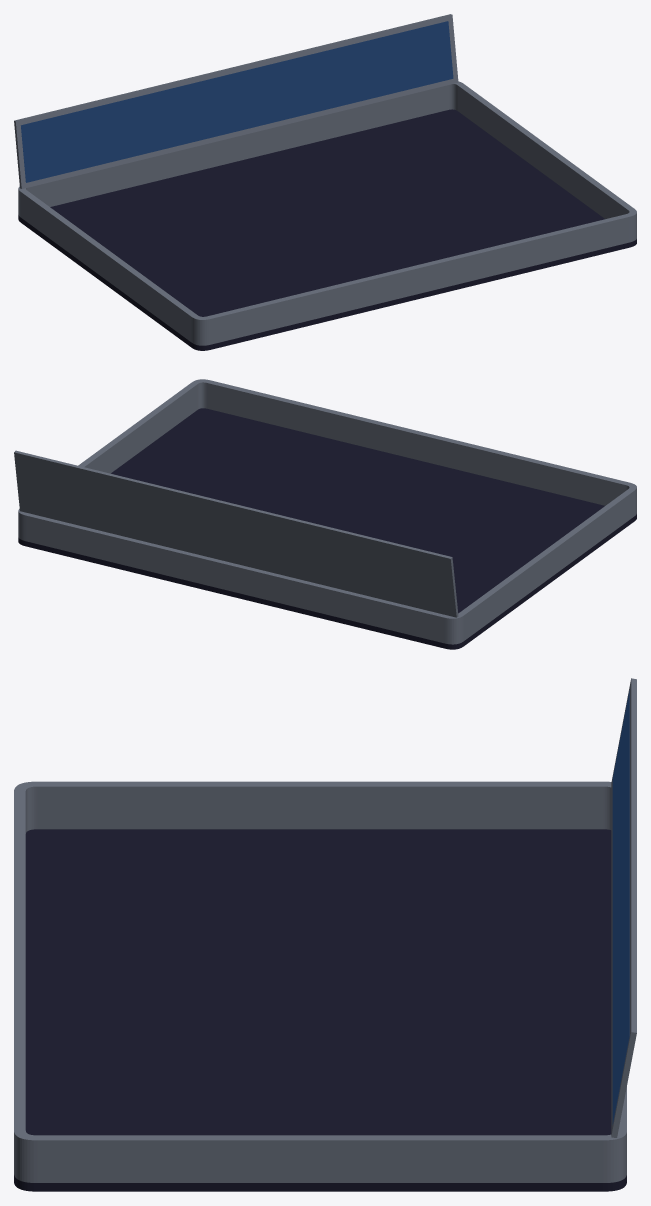
The model's file is macbook.glb.
3 renders of one model, top to bottom at view 1: azimuth 30°, elevation 25°; view 2: azimuth 150°, elevation 25°; view 3: azimuth 270°, elevation 25°, orthographic. The views are drawn at different scales.
Visible parts, largest first — view 1: object 2, object 1, screen; view 2: object 2, object 1, screen; view 3: object 2, object 1, screen.
Part boxes in pixels (x1,y1,x2,y2): object 2: [18, 109, 636, 350]; object 1: [18, 81, 636, 345]; screen: [14, 14, 458, 188]; object 2: [18, 408, 636, 649]; object 1: [18, 379, 636, 644]; screen: [14, 450, 458, 617]; object 2: [14, 829, 626, 1191]; object 1: [14, 781, 626, 1182]; screen: [611, 678, 636, 1137].
Bounding box in the file's own units: 7.2 × 1.47 × 5.28.
